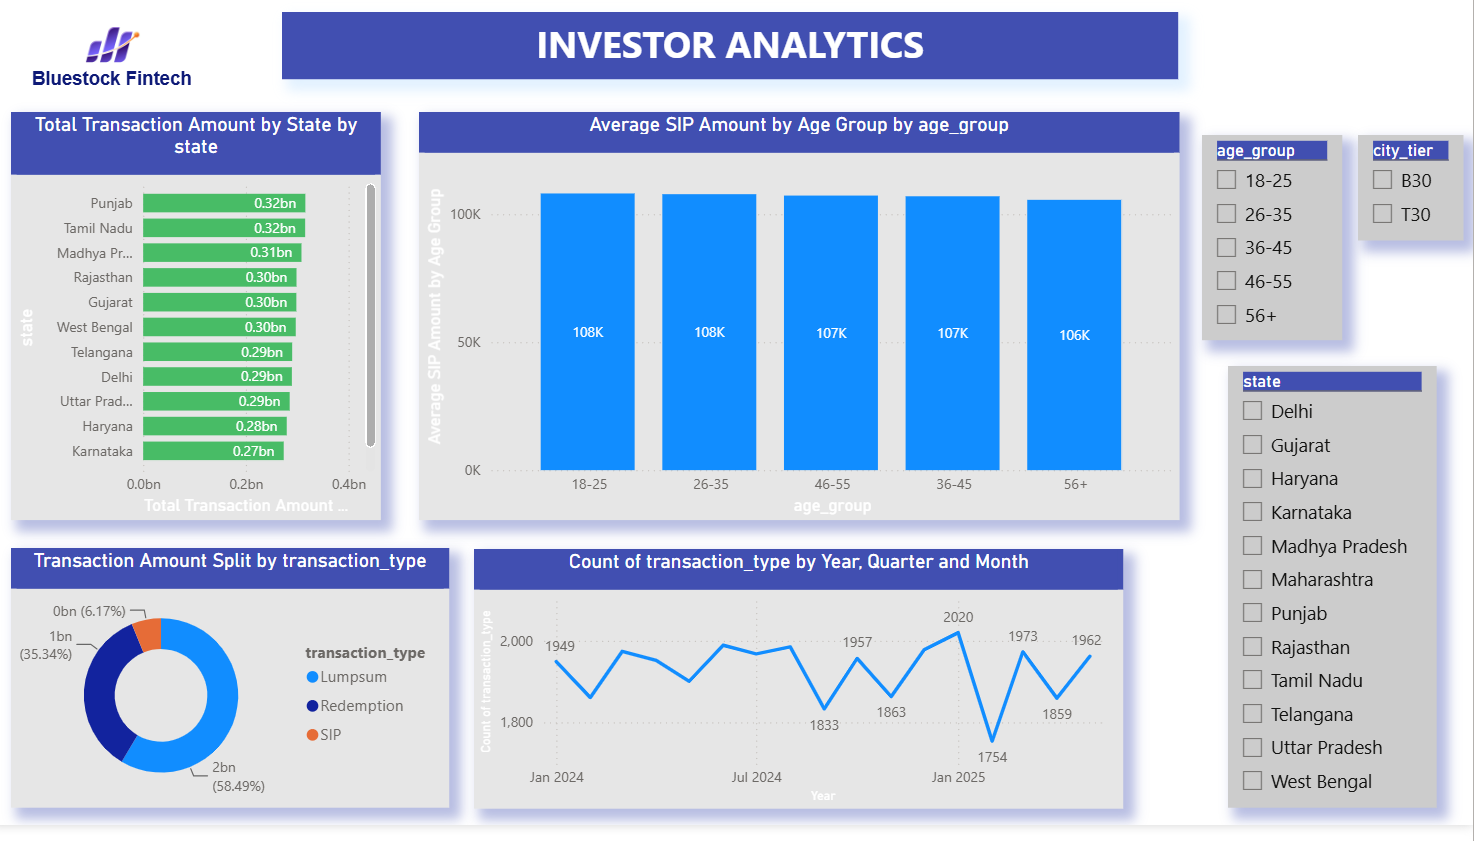

Layout of this report page (visuals, bound fields, positions):
{"tool":"powerbi","page":{"name":"Investor Analytics","canvas":[1280,720],"ordinal":2},"visuals":[{"type":"textbox","box":[253,19,773,58],"z":0},{"type":"clusteredBarChart","fields":{"Category":["investor_transactions_clean.state"],"Y":["Sum(investor_transactions_clean.amount_inr)"]},"box":[19,105.2,319.1,351.9],"z":1000},{"type":"donutChart","fields":{"Category":["investor_transactions_clean.transaction_type"],"Y":["Sum(investor_transactions_clean.amount_inr)"]},"box":[19,481.3,377.8,224.3],"z":2000},{"type":"clusteredColumnChart","fields":{"Category":["investor_transactions_clean.age_group"],"Y":["Avg(investor_transactions_clean.amount_inr)"]},"box":[370.9,105.2,655.5,351.9],"z":3000},{"type":"lineChart","fields":{"Category":["Date_Table.Date.Variation.Date Hierarchy.Year","Date_Table.Date.Variation.Date Hierarchy.Quarter","Date_Table.Date.Variation.Date Hierarchy.Month"],"Y":["CountNonNull(investor_transactions_clean.transaction_type)"]},"box":[418.3,482.2,560.2,223.7],"z":4000},{"type":"slicer","fields":{"Values":["investor_transactions_clean.state"]},"box":[1068.7,324.3,180.3,381.2],"z":5000},{"type":"slicer","fields":{"Values":["investor_transactions_clean.age_group"]},"box":[1046.3,125.1,120.8,176.8],"z":6000},{"type":"slicer","fields":{"Values":["investor_transactions_clean.city_tier"]},"box":[1180.8,125.1,91.4,90.6],"z":7000},{"type":"image","box":[13.3,16.7,186.7,61.7],"z":8000},{"type":"textbox","box":[23.3,63.3,165,28.3],"z":9000}]}

Visuals, with their boxes in screenshot pixels (x1, y1, x2, y2), scaled from the page's 1280x720 canvas onto the 1479x841 screenshot:
textbox: [292, 22, 1186, 90]
clusteredBarChart - investor_transactions_clean.state x Sum(investor_transactions_clean.amount_inr): [22, 123, 391, 534]
donutChart - investor_transactions_clean.transaction_type x Sum(investor_transactions_clean.amount_inr): [22, 562, 458, 824]
clusteredColumnChart - investor_transactions_clean.age_group x Avg(investor_transactions_clean.amount_inr): [429, 123, 1186, 534]
lineChart - Date_Table.Date.Variation.Date Hierarchy.Year x Date_Table.Date.Variation.Date Hierarchy.Quarter: [483, 563, 1131, 825]
slicer - investor_transactions_clean.state: [1235, 379, 1443, 824]
slicer - investor_transactions_clean.age_group: [1209, 146, 1349, 353]
slicer - investor_transactions_clean.city_tier: [1364, 146, 1470, 252]
image: [15, 20, 231, 92]
textbox: [27, 74, 218, 107]
